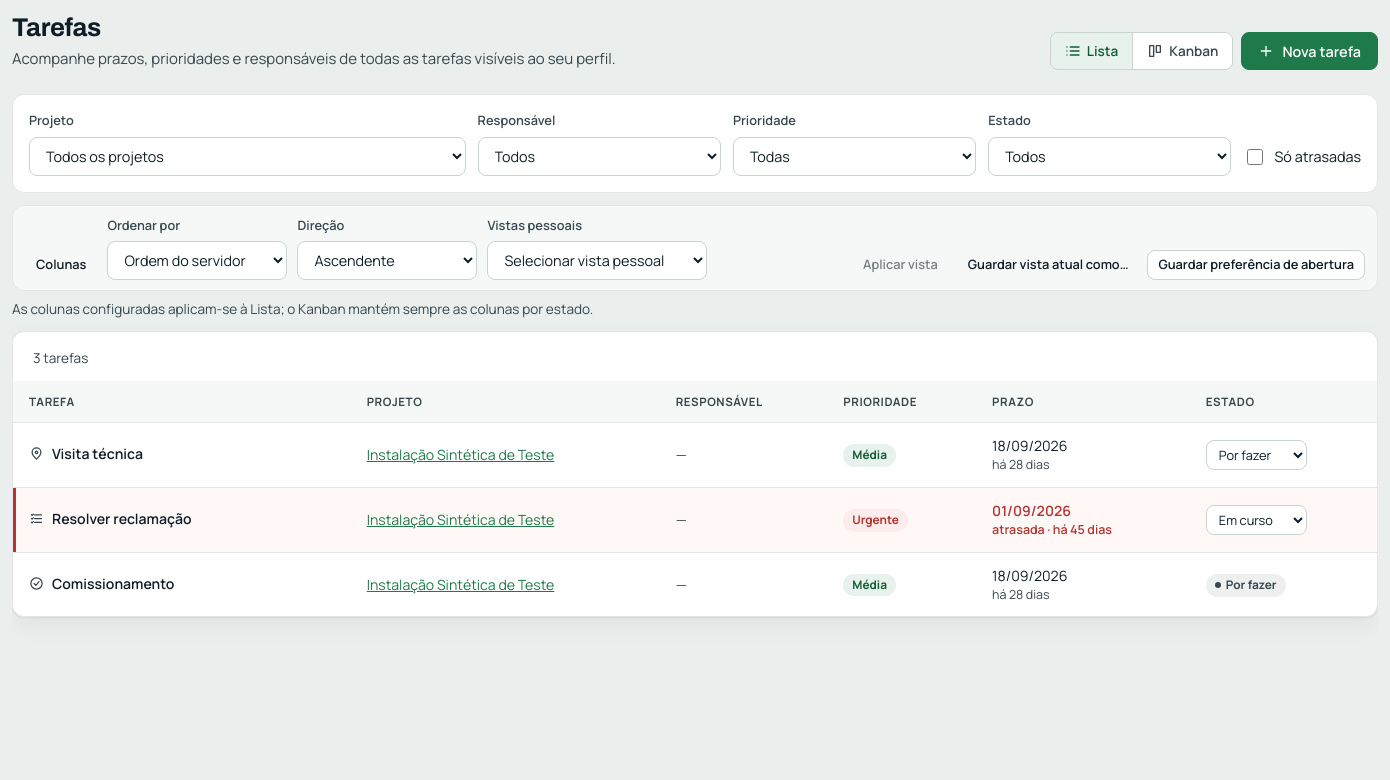
Tasks › altera o estado de uma tarefa e confirma visualmente a conclusão
Select "Concluída" in the dropdown named "Estado da tarefa Visita técnica" at point(1256, 455), box [1206,440,1307,470]
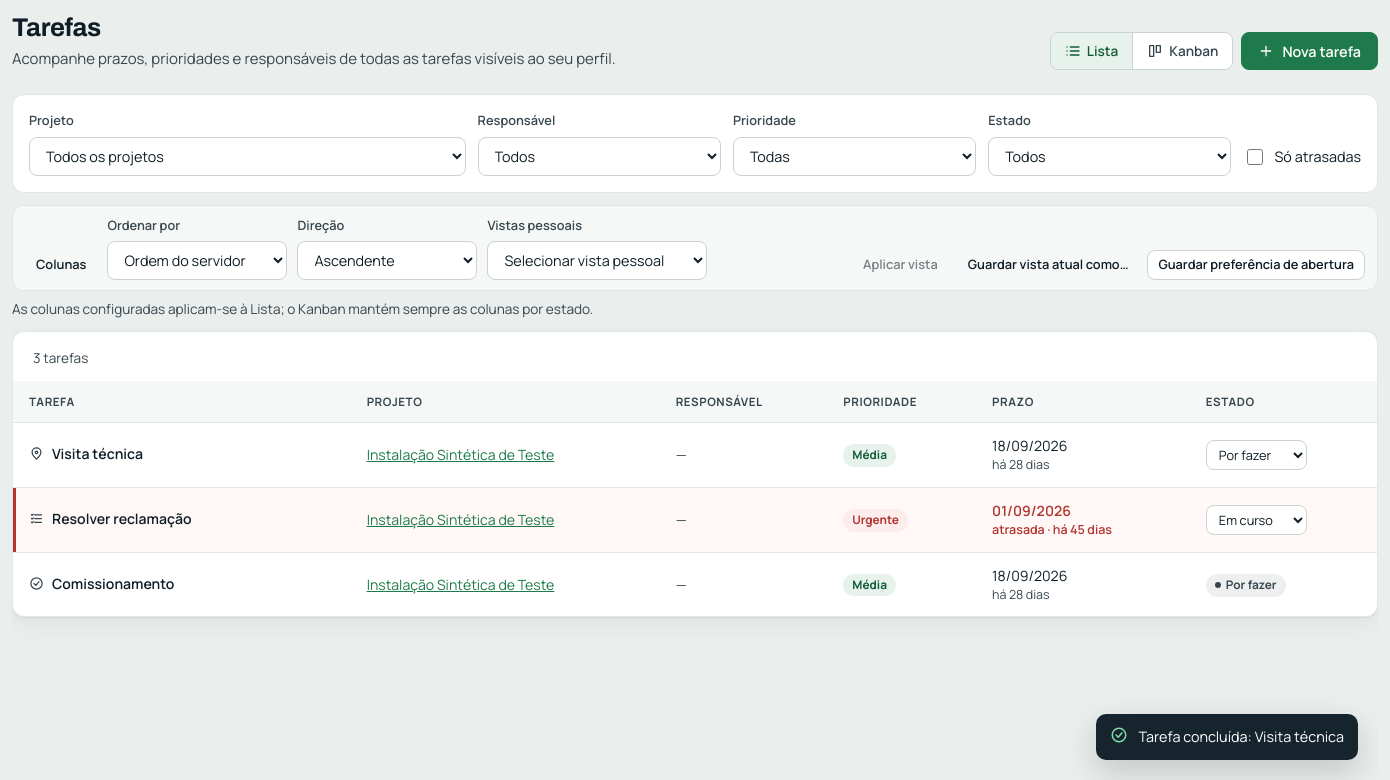
Result: the text "Tarefa concluída: Visita técnica" is shown at [1138,726,1344,748]
